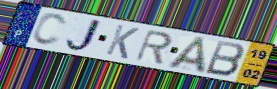A: (165, 35, 208, 76)
B: (203, 39, 246, 78)
C: (30, 12, 68, 47)
J: (63, 17, 104, 54)
K: (103, 23, 141, 61)
R: (133, 29, 174, 66)
